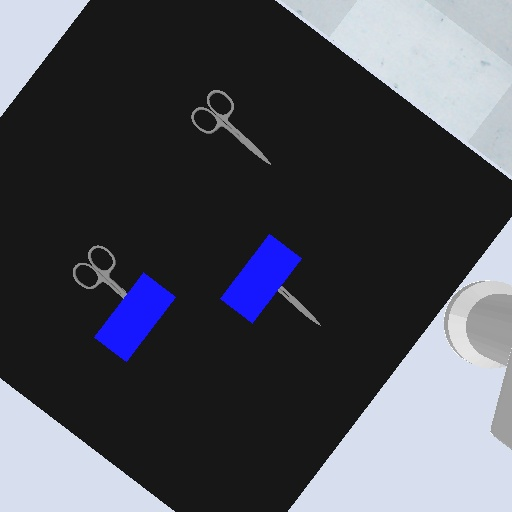tijera: (187, 86, 277, 170), (69, 243, 132, 302), (276, 283, 324, 331)
